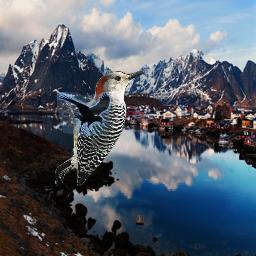Crow: (57, 92, 111, 136)
Woodpecker: (55, 70, 147, 186)
